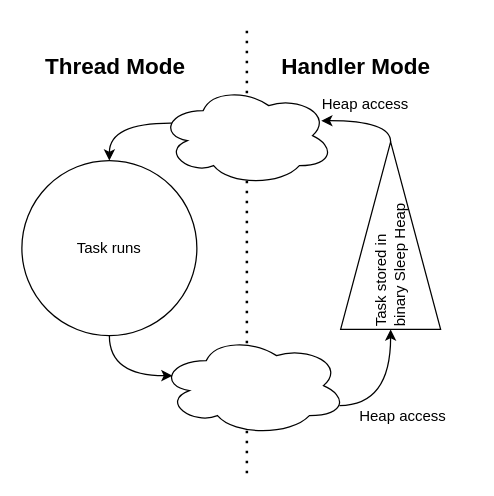
The diagram is 494 pixels wide and 496 high, and some of its shapes have lost their labels. The centre of each missing label's shape, as x and y in pixels:
_OS_schedule() restores task: the point at 246,135
OS_sleepHeap() SuperVisor Call: the point at 252,385
